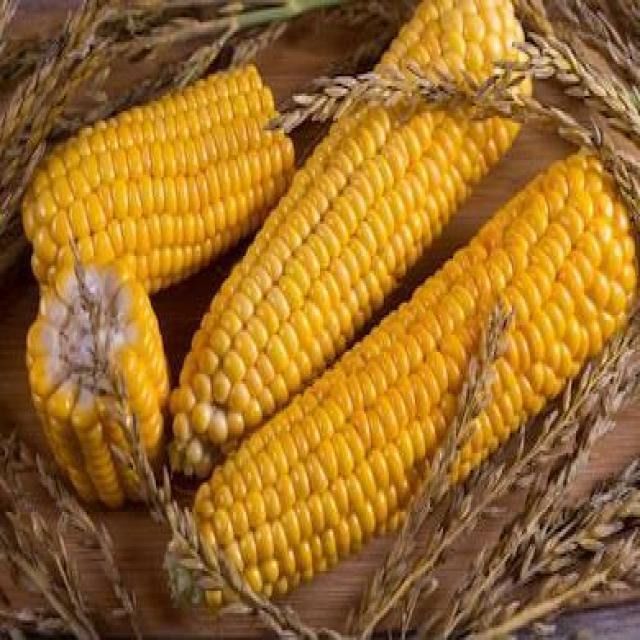Corn ear: (264, 0, 522, 298), (464, 154, 636, 418), (189, 392, 380, 602), (18, 80, 173, 288), (363, 276, 485, 530), (172, 211, 300, 452), (26, 280, 160, 505), (162, 57, 274, 261)
